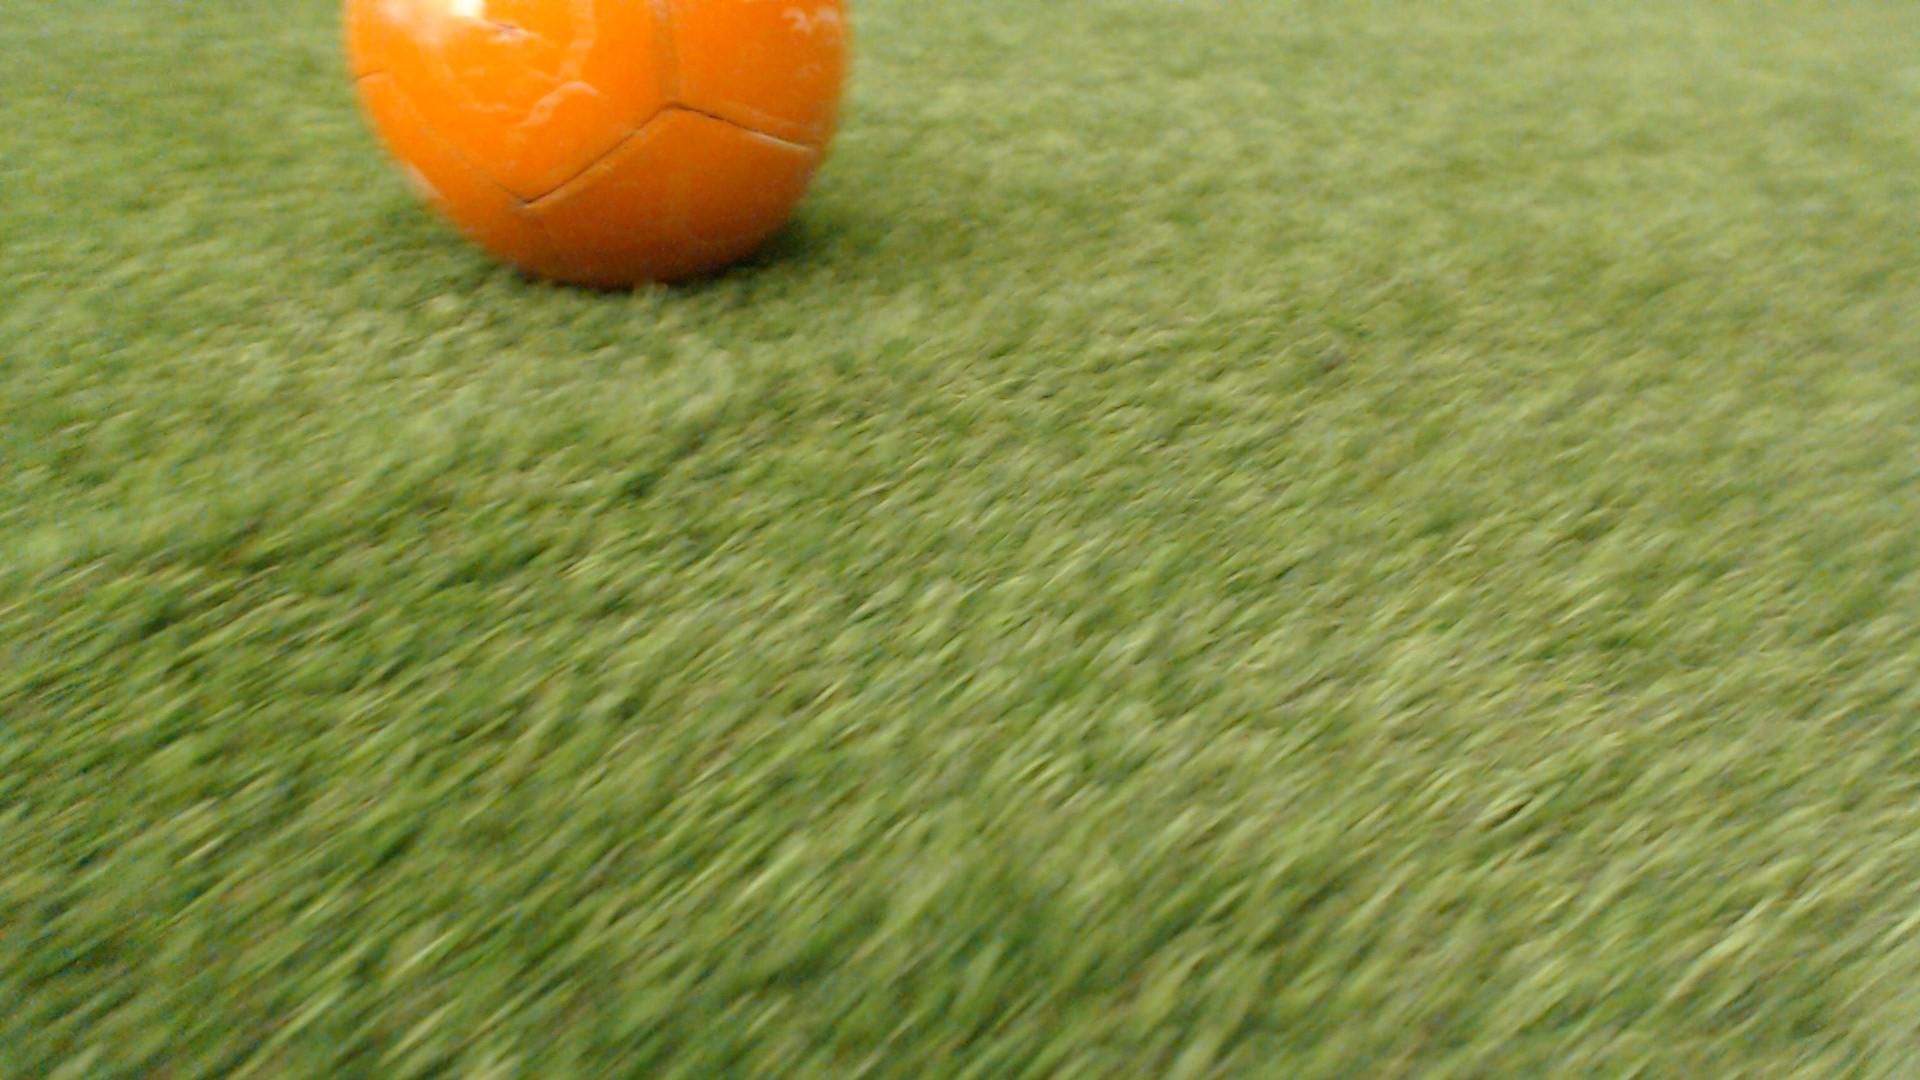bola: (287, 0, 910, 305)
